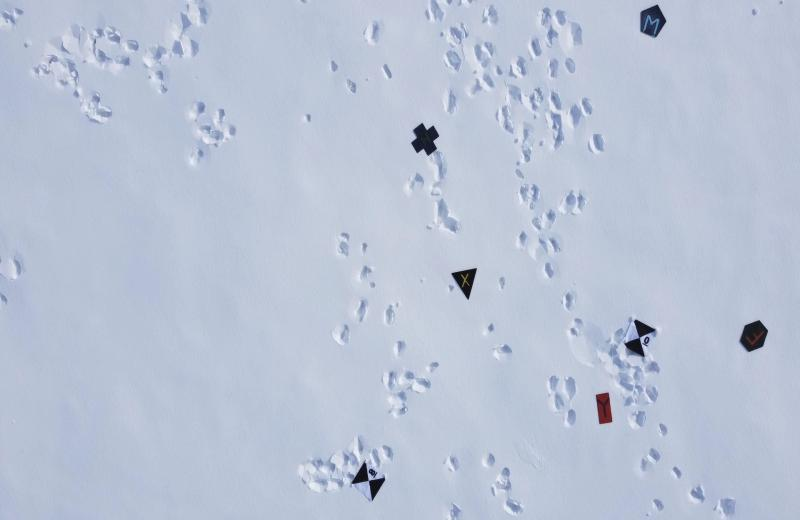Cross: (408, 113, 443, 161)
Hexagon: (732, 310, 771, 354)
Pentagon: (630, 0, 672, 46)
Rectangle: (583, 382, 625, 429)
Triangle: (445, 259, 487, 301)
